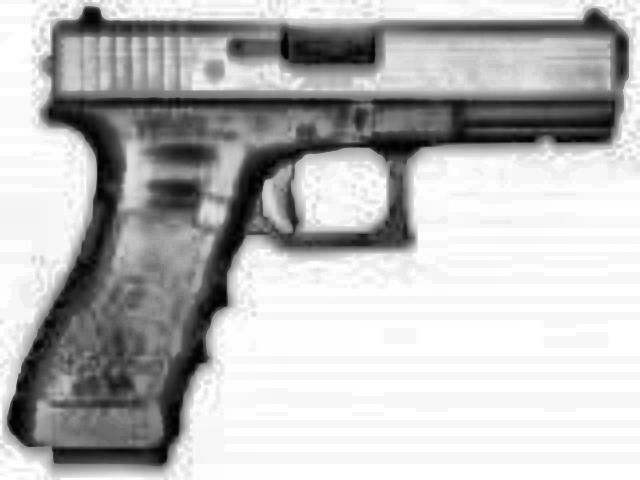pistol: (4, 0, 624, 440)
